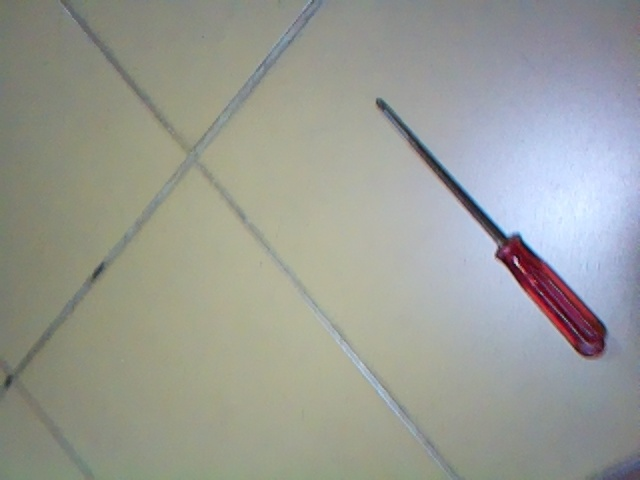redskrew: (374, 100, 616, 378)
